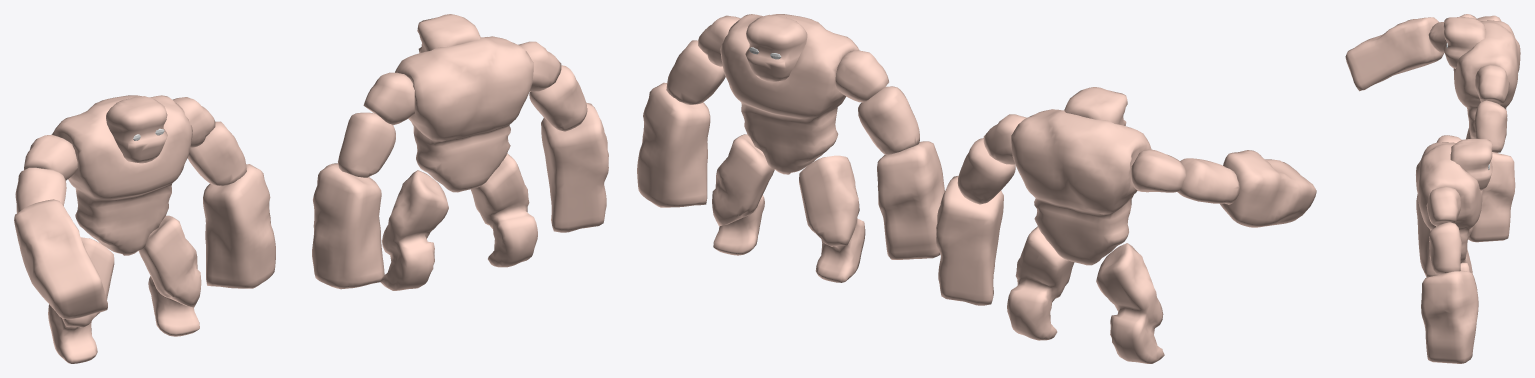
3 views of the same model, side by side, from view 1: azimuth 30°, elevation 25°; view 2: azimuth 150°, elevation 25°; view 3: azimuth 270°, elevation 25° (orthographic). The views are drawn at different scales.
Parts seen in each view (by area): view 1: hands&leg.001, hands&leg, torso.001, torso, head, head.001; view 2: hands&leg.001, hands&leg, torso, torso.001, head.001, head; view 3: hands&leg, hands&leg.001, torso.001, torso, head.001, head.
Boxes of the visible parts, x1,y1,x2,y2 form: hands&leg.001: (312, 41, 608, 290); hands&leg: (14, 97, 275, 363); torso.001: (395, 36, 533, 192); torso: (52, 95, 192, 255); head: (106, 96, 167, 163); head.001: (417, 14, 480, 53); hands&leg.001: (637, 15, 944, 282); hands&leg: (936, 114, 1316, 363); torso: (1011, 109, 1151, 265); torso.001: (720, 14, 859, 174); head.001: (745, 14, 807, 81); head: (1064, 87, 1127, 125); hands&leg: (1345, 14, 1515, 242); hands&leg.001: (1416, 135, 1478, 363); torso.001: (1416, 142, 1482, 262); torso: (1453, 20, 1520, 138); head.001: (1450, 138, 1492, 190); head: (1443, 17, 1485, 68).
Size of what is drawn, in the model's own units: 2482 by 957 by 776.
